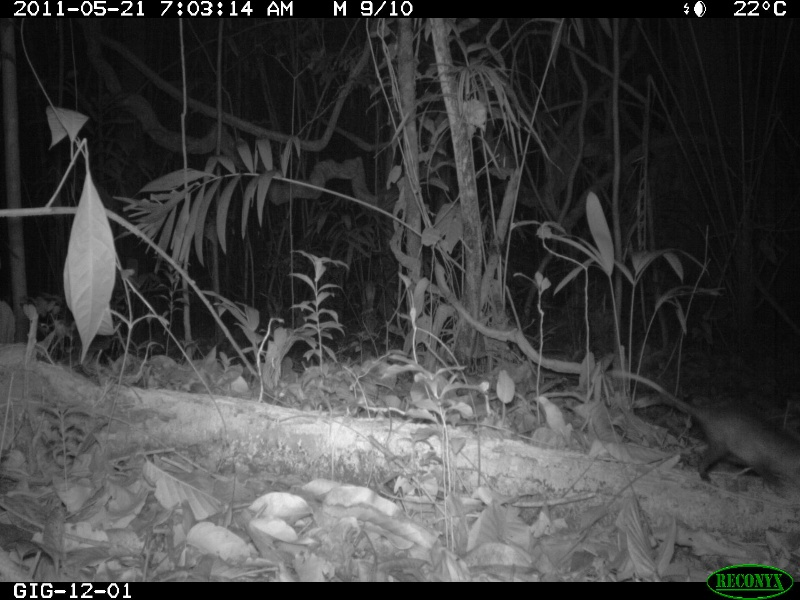opossum: (608, 366, 795, 492)
